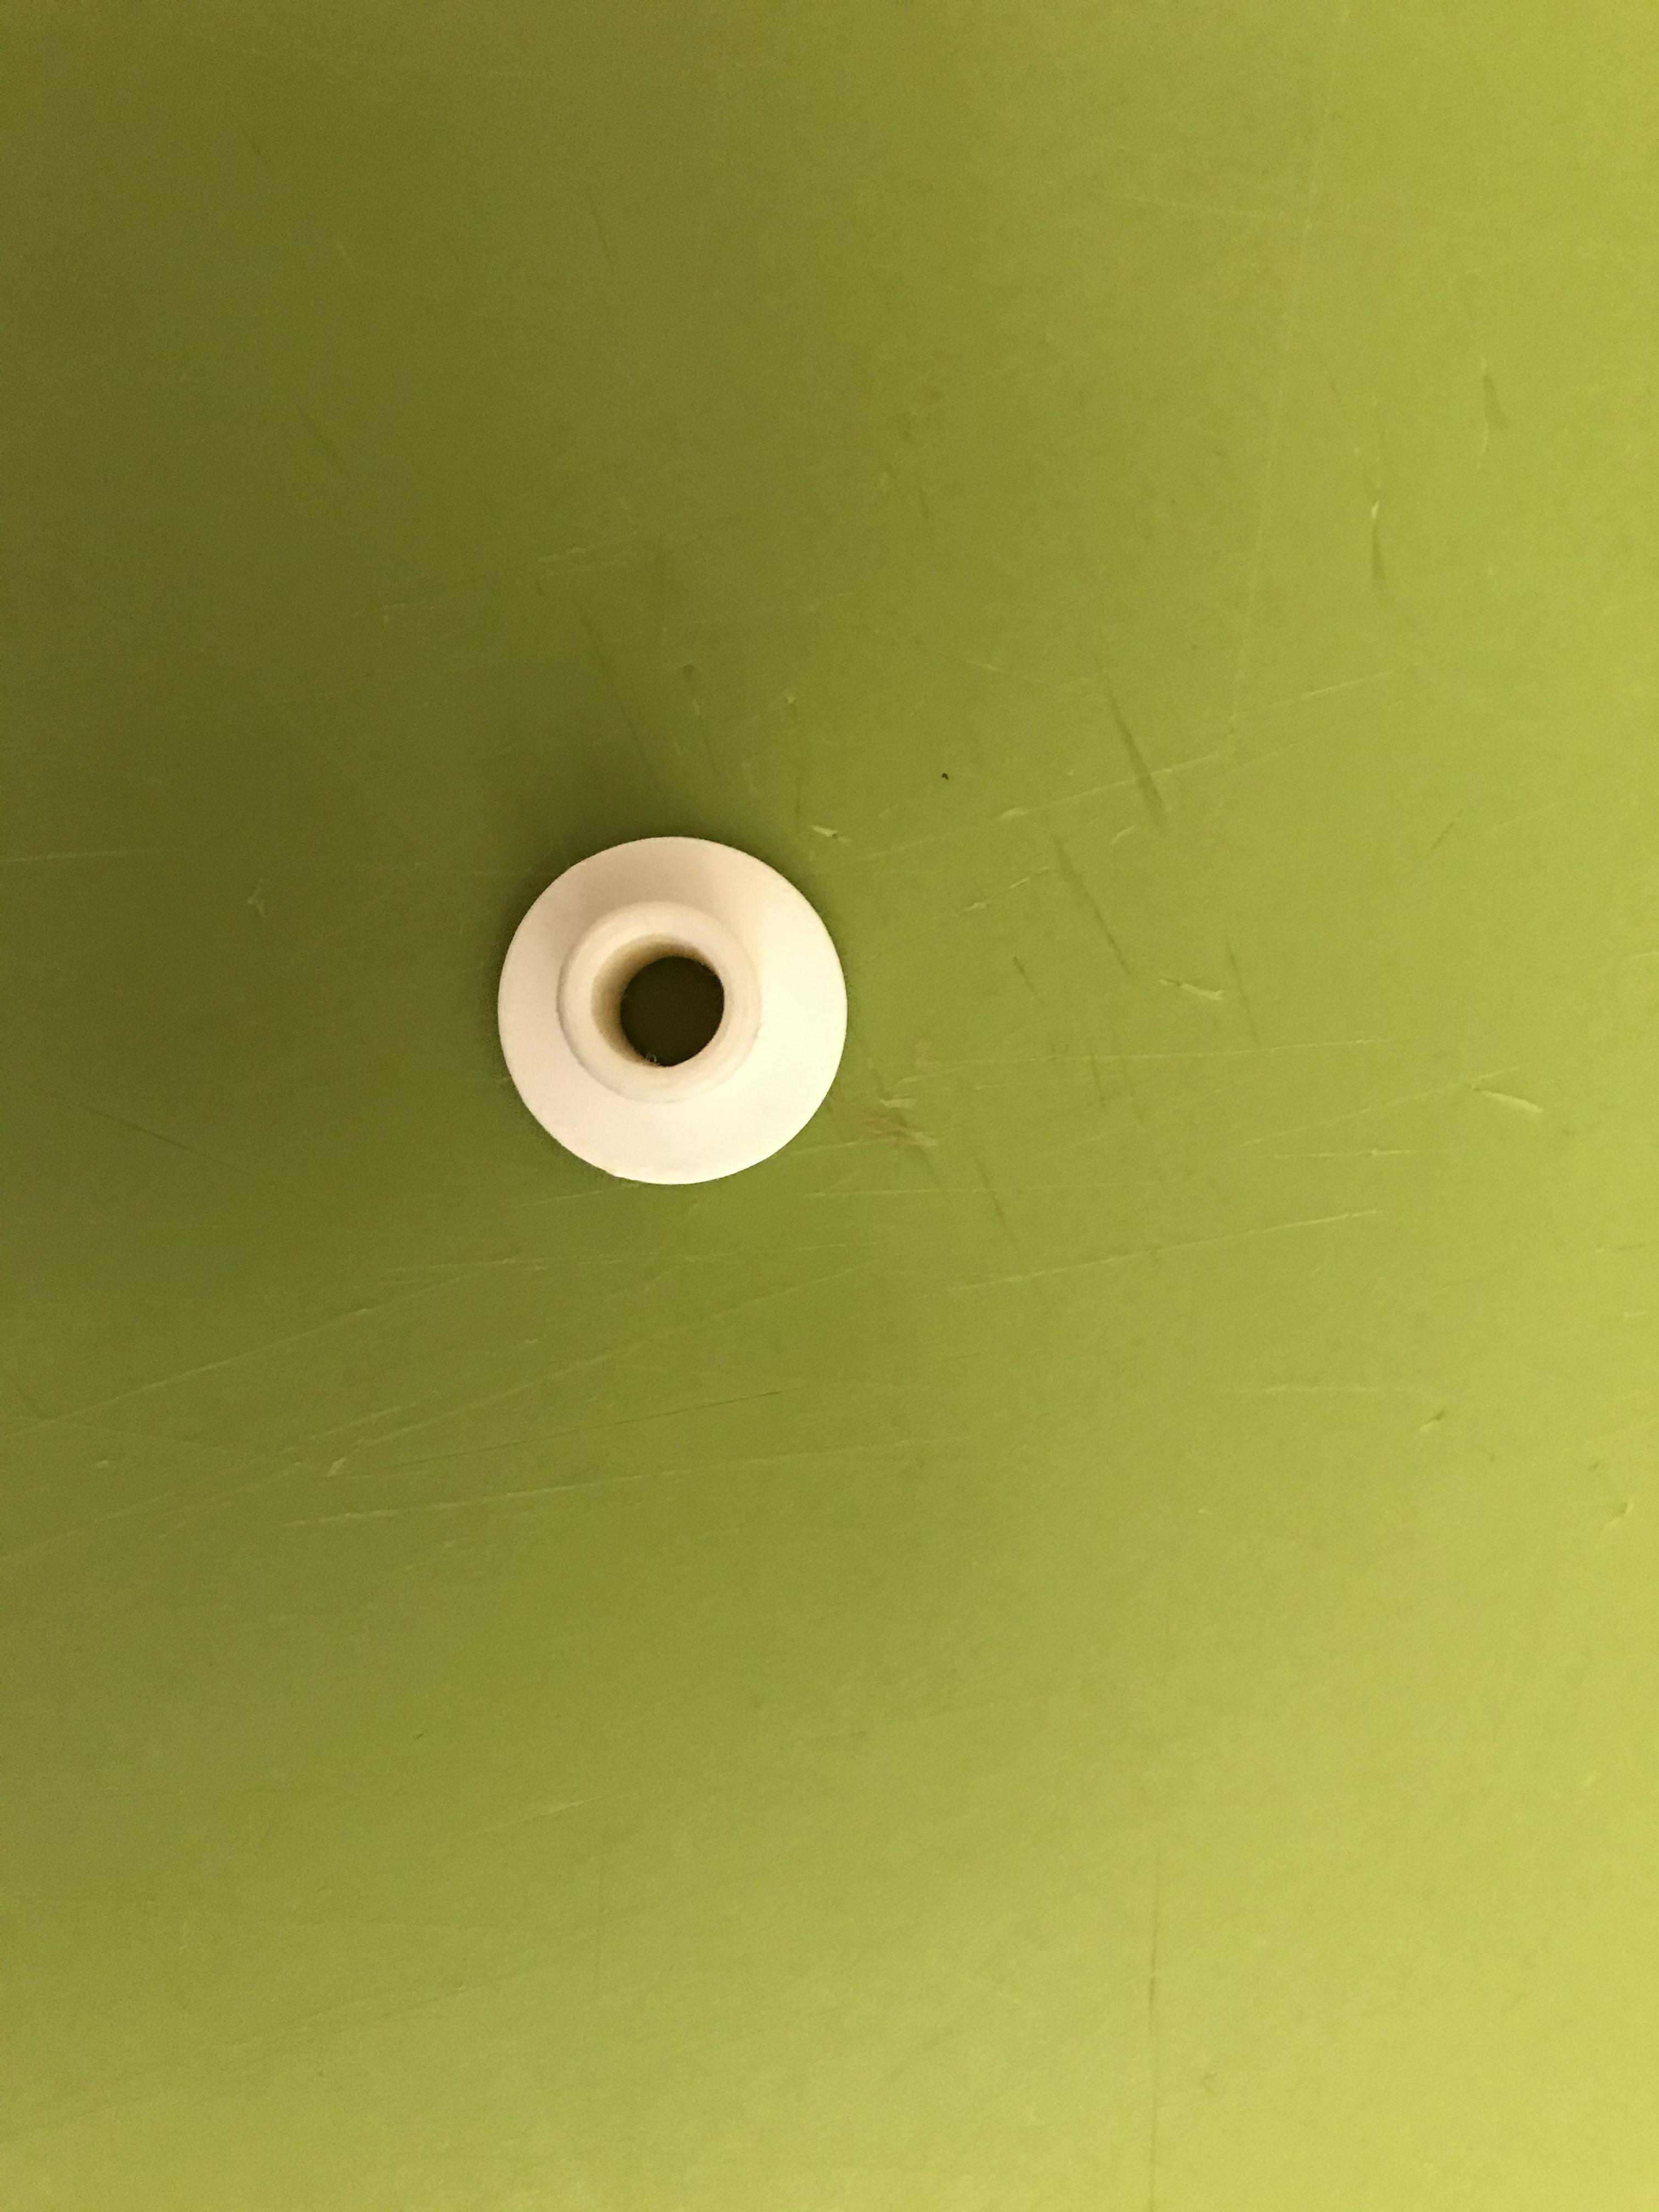White Cone: (484, 838, 854, 1198)
